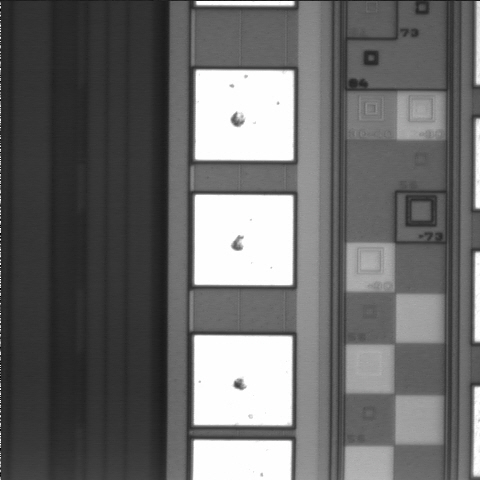pad: (195, 70, 294, 160), (194, 195, 293, 285), (194, 335, 292, 425)
